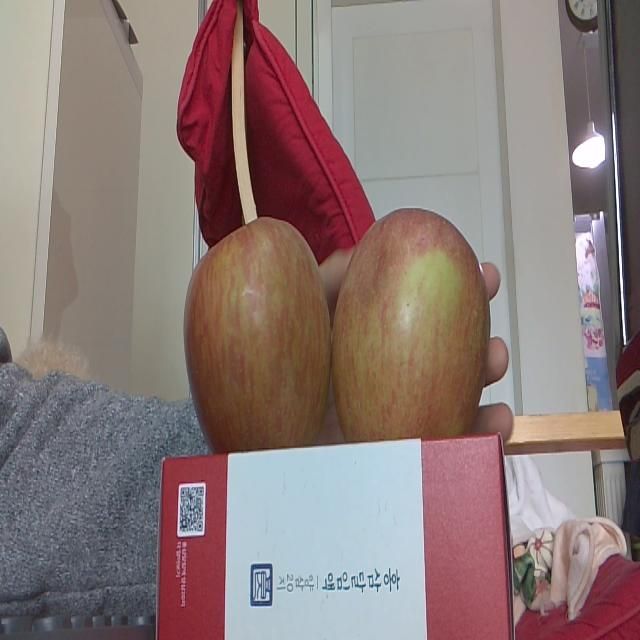apple: (332, 208, 489, 438), (184, 215, 330, 448)
